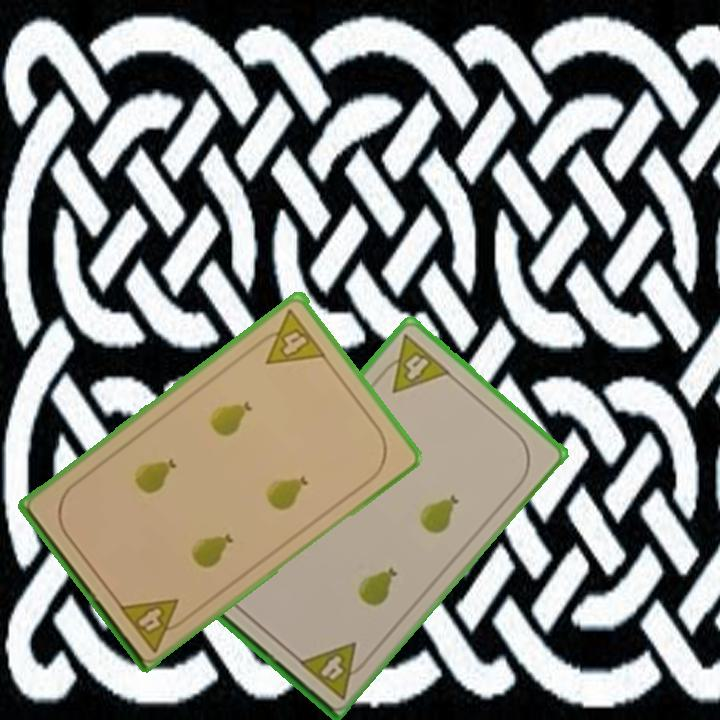4p: (373, 331, 454, 396), (294, 638, 373, 702), (251, 305, 329, 368), (115, 594, 193, 655)
